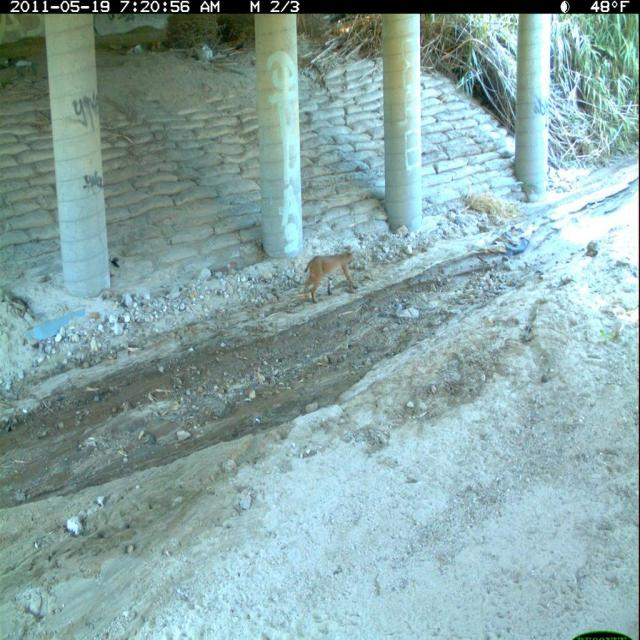bobcat: (302, 250, 362, 307)
